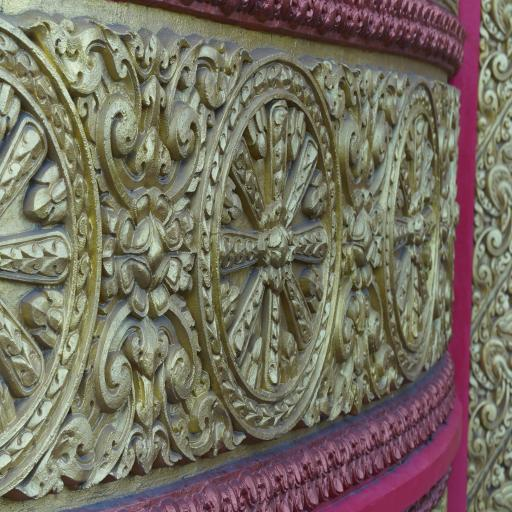hoa: (187, 44, 345, 450), (0, 20, 102, 481), (386, 76, 444, 382)
la: (57, 9, 242, 198), (76, 284, 232, 465), (310, 43, 404, 183), (330, 255, 404, 412), (468, 402, 508, 468), (478, 150, 512, 223), (472, 224, 506, 292), (477, 53, 510, 121), (477, 328, 512, 392), (482, 0, 512, 47)
